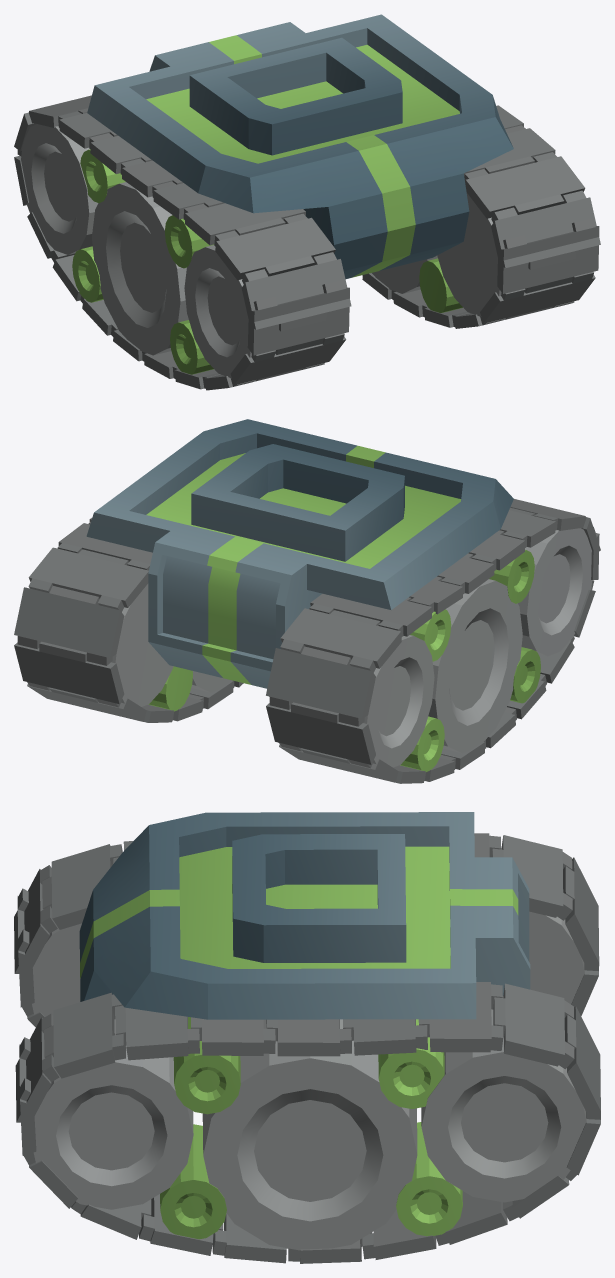
File: Spare_tank_body.fbx
3 views of the same model, one above another, from view 1: azimuth 30°, elevation 25°; view 2: azimuth 150°, elevation 25°; view 3: azimuth 270°, elevation 25° (orthographic). The views are drawn at different scales.
Parts seen in each view (by area): view 1: Spare_tank_body; view 2: Spare_tank_body; view 3: Spare_tank_body.
Boxes of the visible parts, bbox=[...] form: Spare_tank_body: bbox=[14, 14, 600, 390]; Spare_tank_body: bbox=[14, 419, 600, 783]; Spare_tank_body: bbox=[14, 812, 600, 1263].
Bounding box in the file's own units: 263 × 167 × 316.
